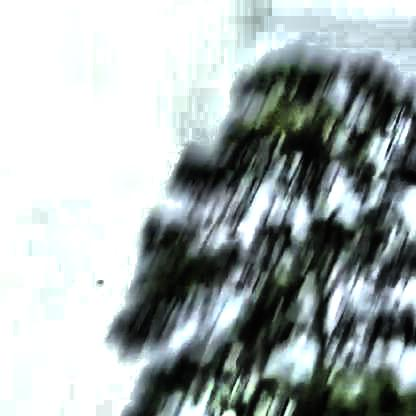golfball: (94, 274, 104, 284)
